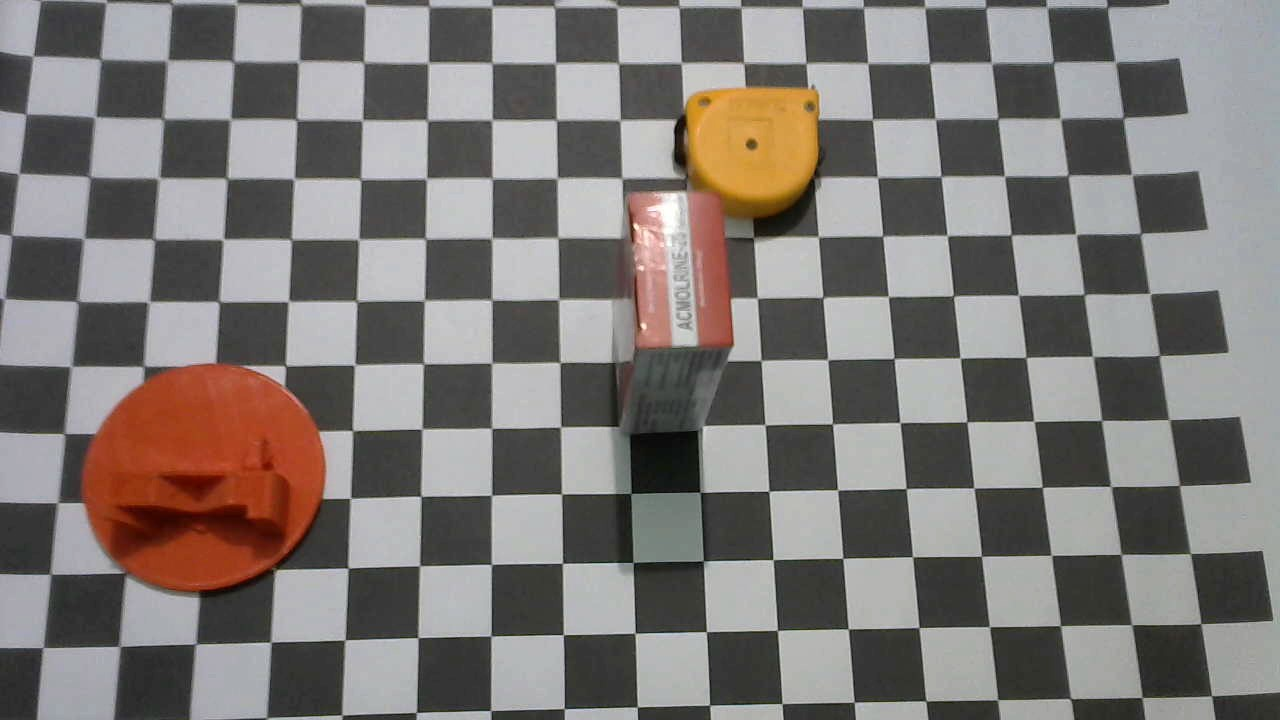blue: (683, 86, 821, 218)
green: (79, 364, 326, 599)
red: (617, 192, 734, 433)
